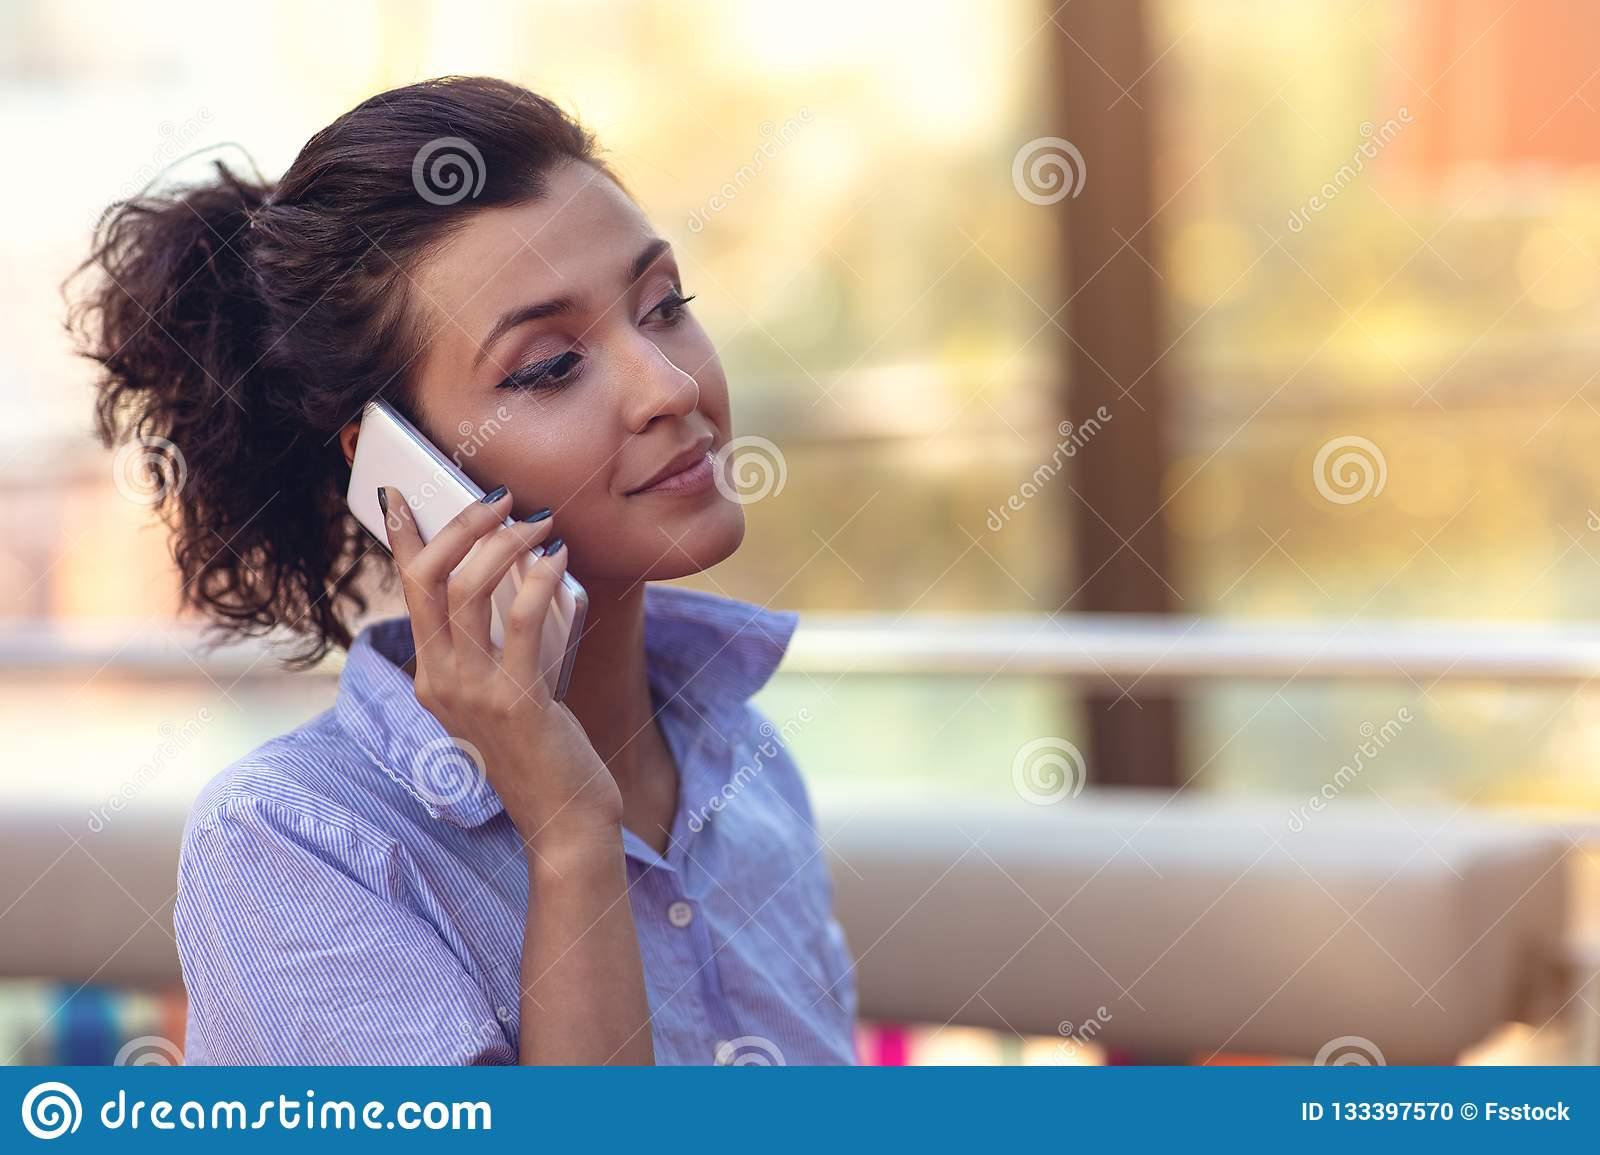phone: (347, 400, 588, 736)
talk: (340, 225, 747, 845)
